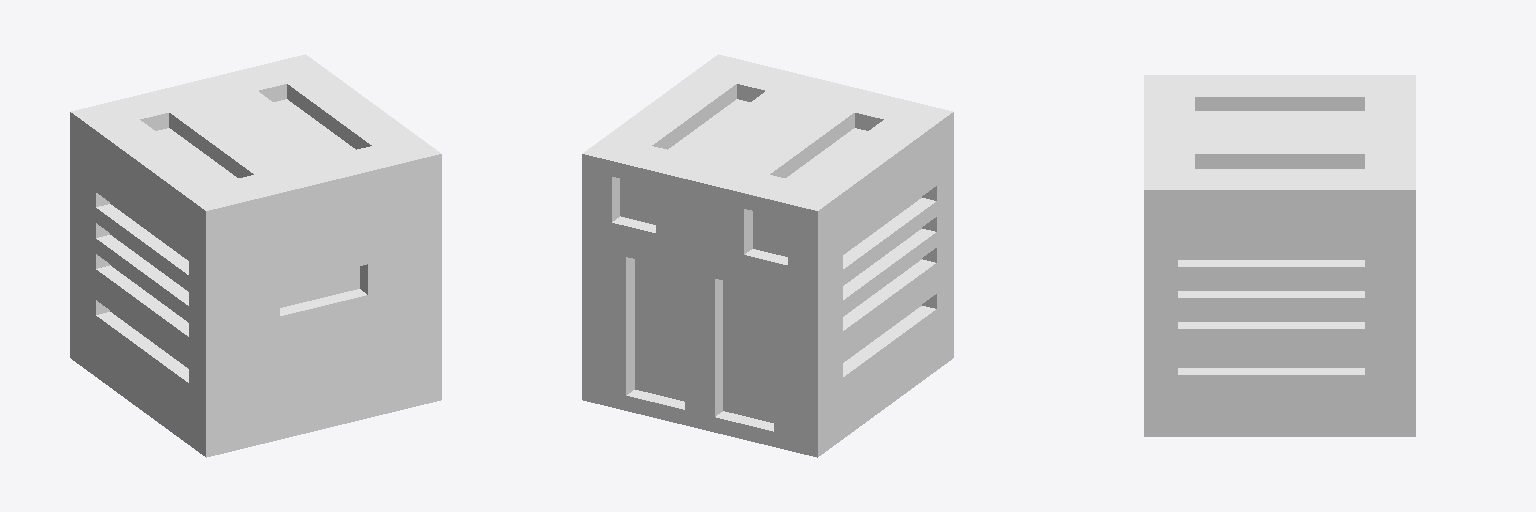
The model's file is BrickCut1.obj.
The picture shows the model from 3 angles: view 1: azimuth 30°, elevation 25°; view 2: azimuth 150°, elevation 25°; view 3: azimuth 270°, elevation 25°; orthographic projection.
Bounding box in the file's own units: 16 × 16 × 16.